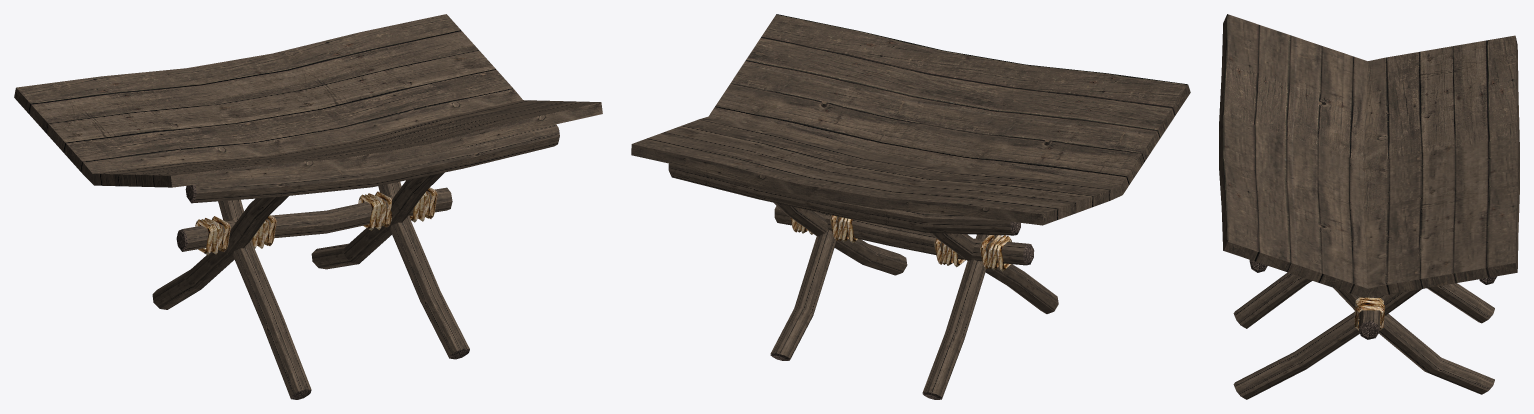
File: desert_ruins_table_LOD0.fbx
3 renders of one model, left to right at view 1: azimuth 30°, elevation 25°; view 2: azimuth 150°, elevation 25°; view 3: azimuth 270°, elevation 25°, orthographic. The views are drawn at different scales.
Parts seen in each view (by area): view 1: Default_Layer; view 2: Default_Layer; view 3: Default_Layer.
Part boxes in pixels (box(x1,y1,x2,y2)): Default_Layer: box(14, 14, 602, 399); Default_Layer: box(631, 14, 1190, 399); Default_Layer: box(1219, 14, 1519, 399).
Size of the model in its own units: 152 by 89.04 by 97.05.
